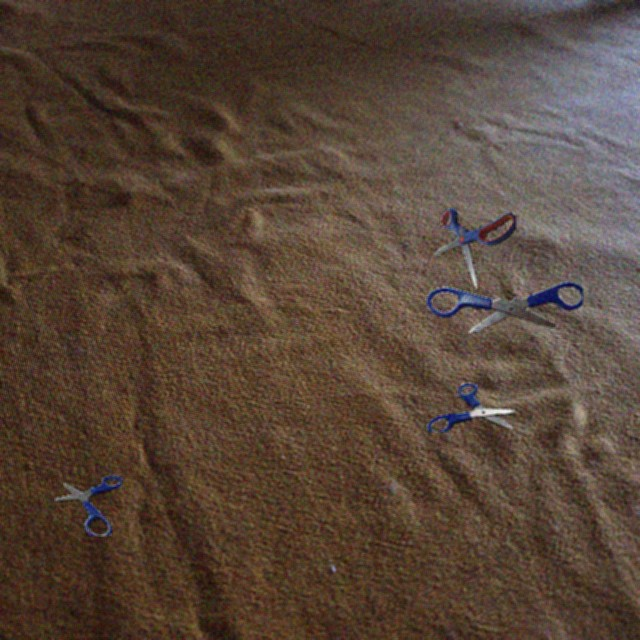scissors: (426, 282, 583, 333), (434, 207, 516, 289), (427, 382, 515, 432), (55, 475, 122, 536)
